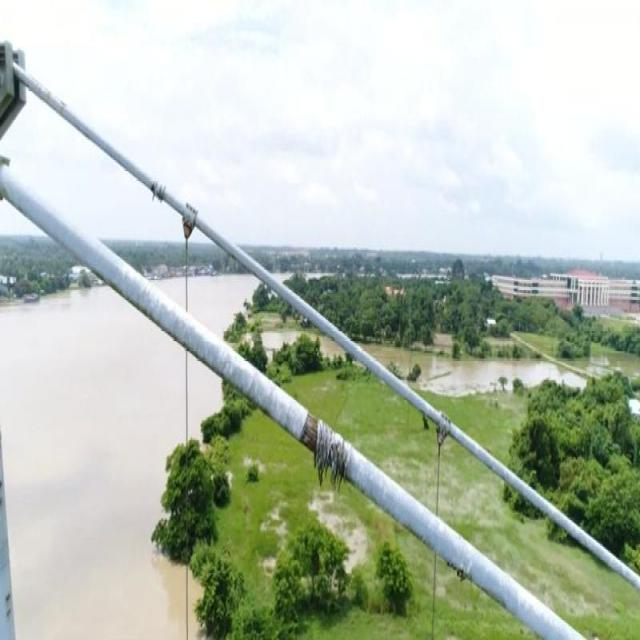corrosion: (298, 412, 351, 488), (449, 556, 470, 584), (149, 178, 166, 200), (182, 216, 195, 242), (437, 424, 445, 450)
